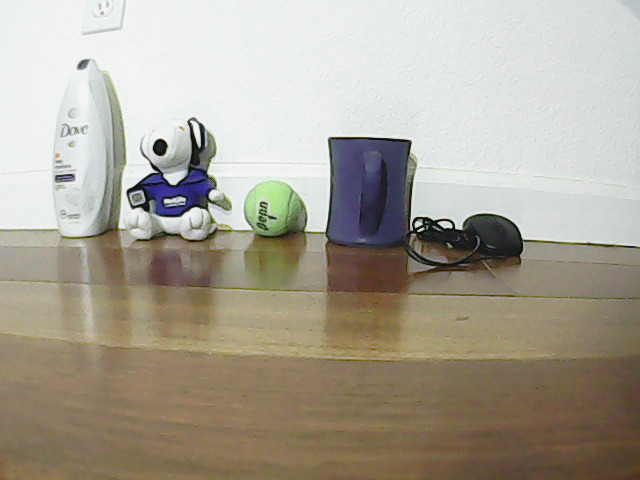ball: (239, 161, 302, 234)
mouse: (464, 204, 522, 263)
mug: (316, 119, 413, 249)
snoopy: (140, 103, 216, 239)
soap: (48, 27, 113, 246)
